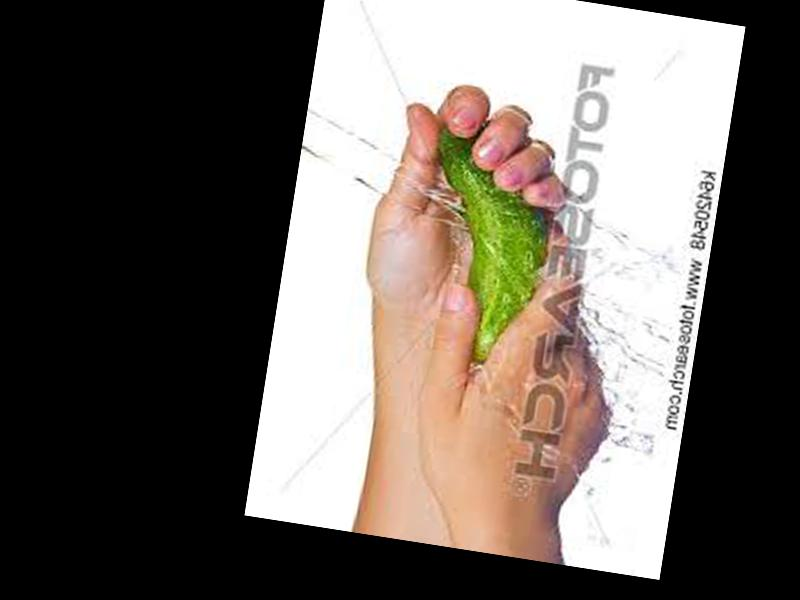Cucumber: (404, 123, 568, 377)
